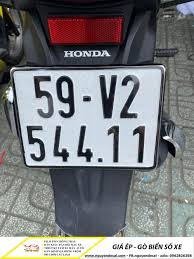Bien-so: (11, 65, 169, 172)
